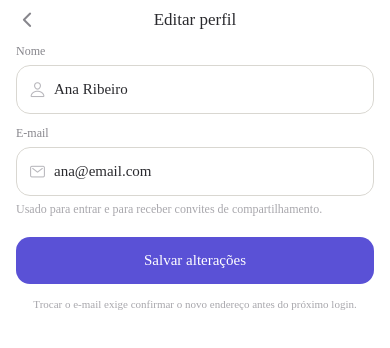
Test: Editar perfil › acusa nome curto demais
Replace the text in the field showing "Ana Ribeiro" below "Nome" with "A": [208, 90] box [54,66,361,113]
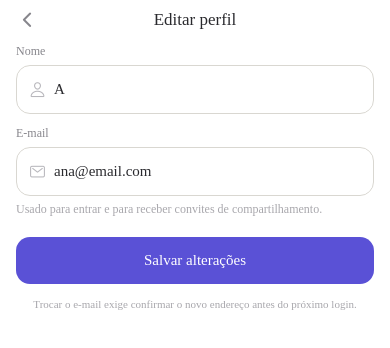
Click the button "Salvar alterações": [195, 260] box [16,237,374,284]
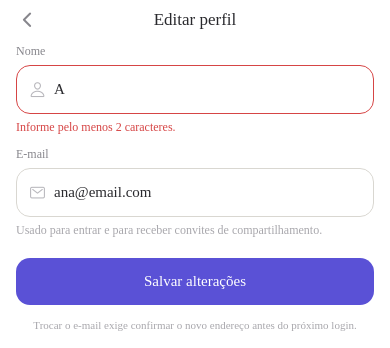
Expected: the text "Informe pelo menos 2 caracteres." is shown, [16,120,176,134]
